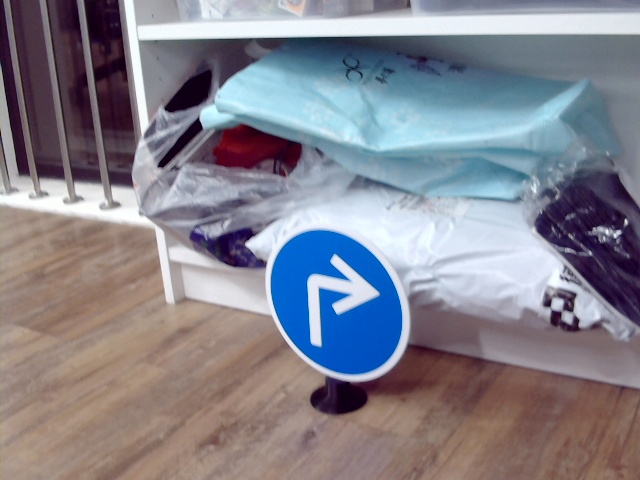turn_right: (290, 254, 380, 352)
